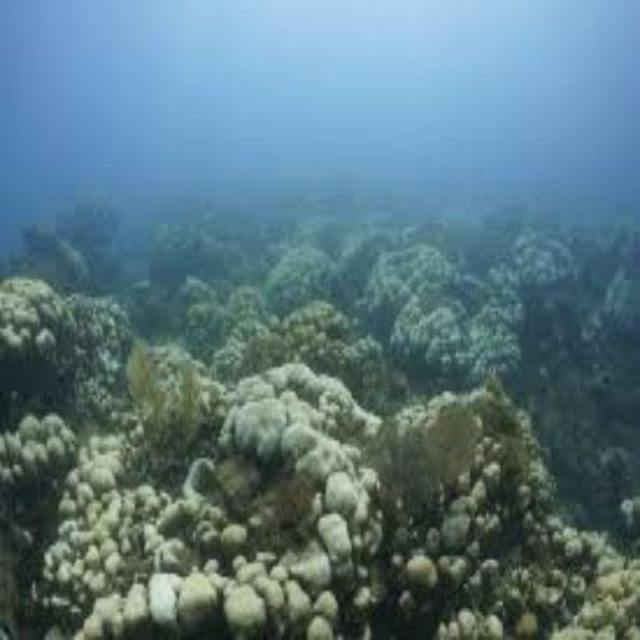Dead Coral: (21, 316, 599, 640)
